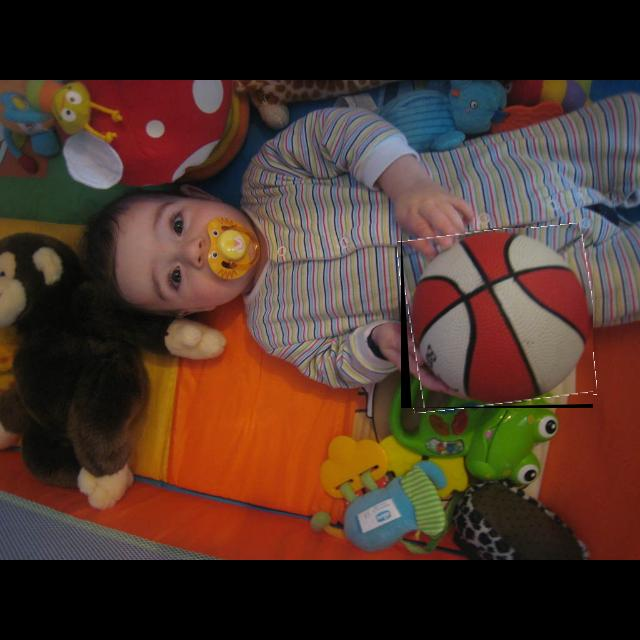Football: (401, 228, 593, 408)
